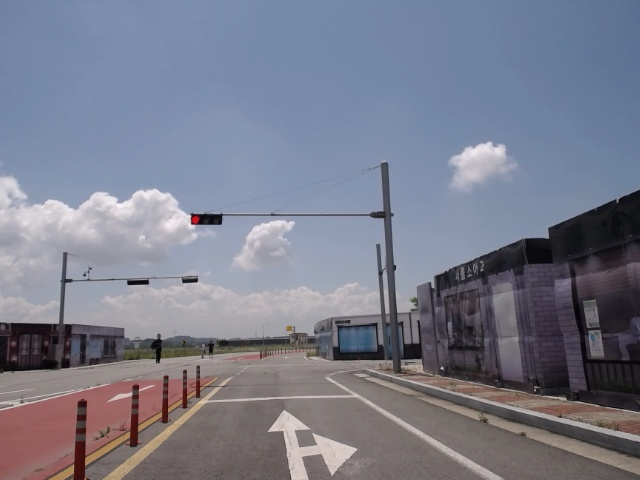red_3: (190, 213, 223, 227)
